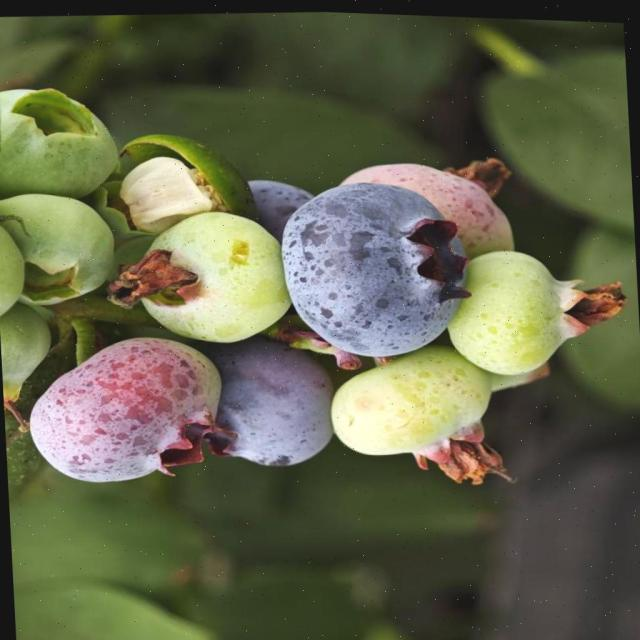RipeBlueBerry: (274, 171, 468, 363)
Semi-RipeBlueBerry: (20, 326, 231, 492)
UnripeBlueBerry: (122, 203, 290, 348), (443, 238, 602, 378)
